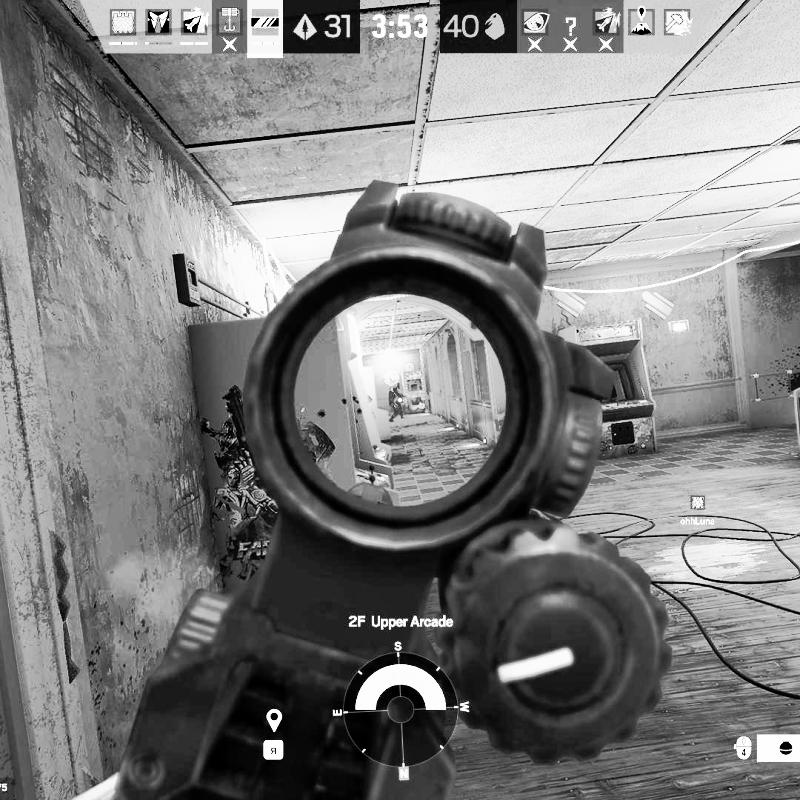Character: (388, 382, 408, 422)
Friend_label: (680, 495, 716, 526)
Head: (395, 383, 401, 390)
